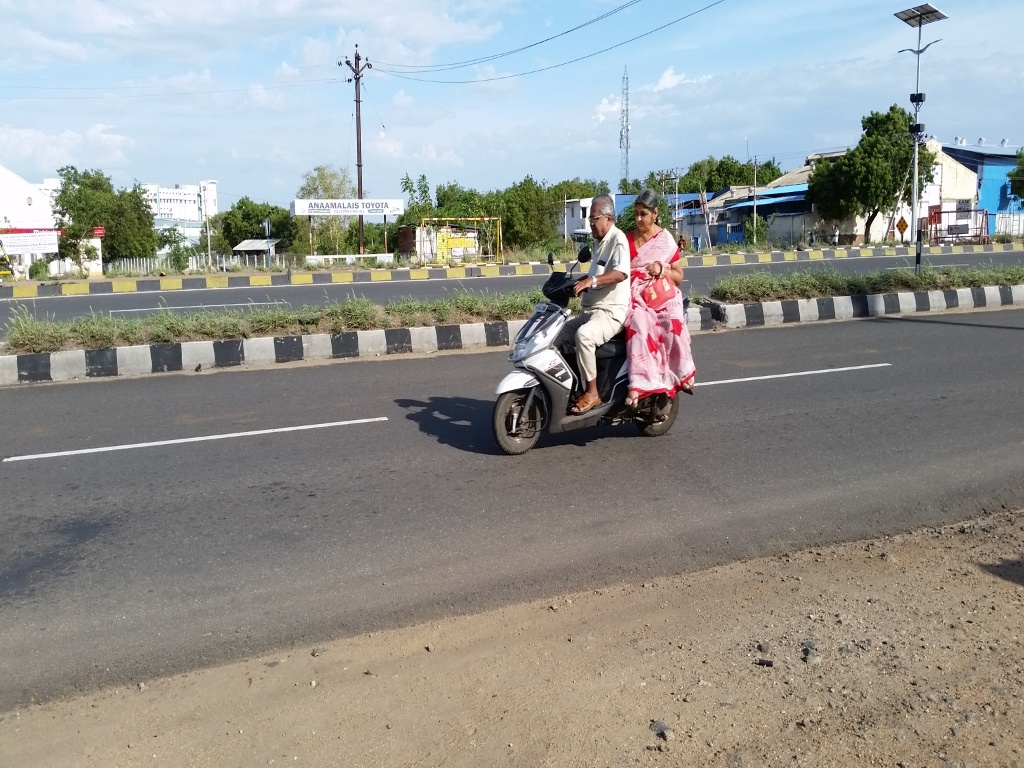biker: (469, 167, 721, 466)
nohelmet: (627, 186, 665, 246), (584, 187, 622, 247)
